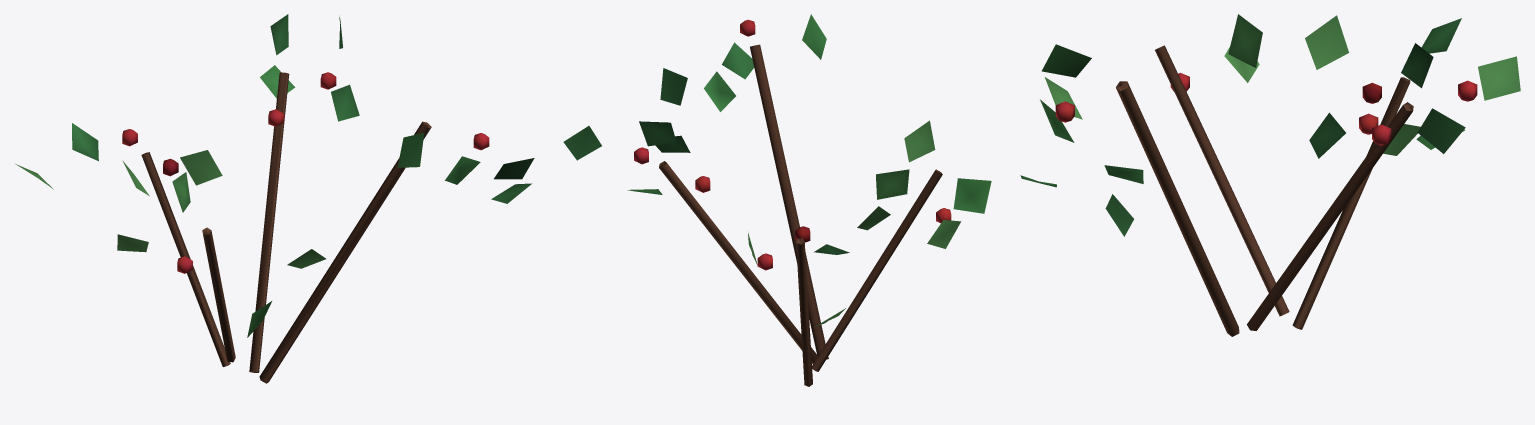
The model's file is standard-lod2.glb.
3 renders of one model, left to right at view 1: azimuth 30°, elevation 25°; view 2: azimuth 150°, elevation 25°; view 3: azimuth 270°, elevation 25°, orthographic. The views are drawn at different scales.
Parts seen in each view (by area): view 1: redberry-buried-stems-ground-blend-and-fruit, redberry-individual-ovate-leaves; view 2: redberry-buried-stems-ground-blend-and-fruit, redberry-individual-ovate-leaves; view 3: redberry-buried-stems-ground-blend-and-fruit, redberry-individual-ovate-leaves.
Boxes of the visible parts, left/top/right/bottom form: redberry-buried-stems-ground-blend-and-fruit: left=122, top=72, right=489, bottom=383; redberry-individual-ovate-leaves: left=15, top=14, right=534, bottom=337; redberry-buried-stems-ground-blend-and-fruit: left=634, top=19, right=951, bottom=386; redberry-individual-ovate-leaves: left=563, top=14, right=991, bottom=327; redberry-buried-stems-ground-blend-and-fruit: left=1055, top=45, right=1477, bottom=336; redberry-individual-ovate-leaves: left=1020, top=14, right=1520, bottom=236.
Size of the model in its own units: 1.88 by 1.41 by 1.86.
